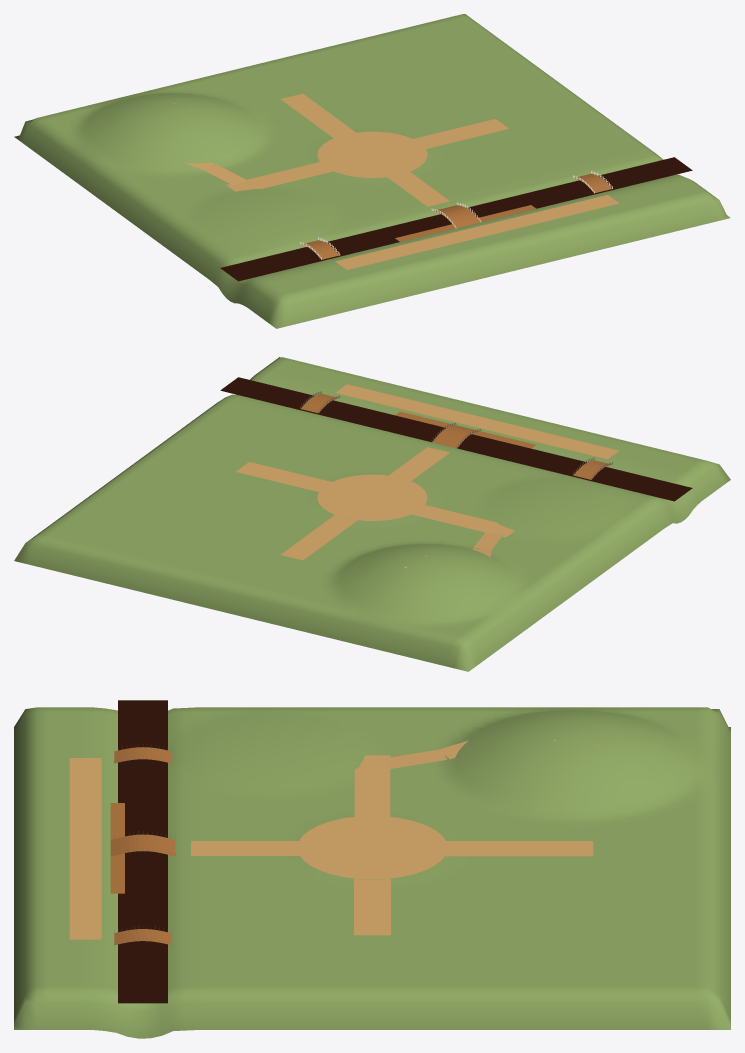
Rendered from bwed-village-terrain.glb.
The picture shows the model from 3 angles, top to bottom: view 1: azimuth 30°, elevation 25°; view 2: azimuth 150°, elevation 25°; view 3: azimuth 270°, elevation 25°; orthographic projection. The views are drawn at different scales.
Parts seen in each view (by area): view 1: Bwed_Terrain, Bwed_Roads, Bwed_Choco_Canal, Bwed_Pier, Bwed_Bridge_50.0; view 2: Bwed_Terrain, Bwed_Roads, Bwed_Choco_Canal, Bwed_Pier, Bwed_Bridge_50.0; view 3: Bwed_Terrain, Bwed_Roads, Bwed_Choco_Canal, Bwed_Bridge_50.0, Bwed_Pier, Bwed_Bridge_20.0, Bwed_Bridge_80.0.
Part boxes in pixels (left/top/right/bottom): Bwed_Terrain: left=14, top=14, right=730, bottom=328; Bwed_Roads: left=172, top=93, right=619, bottom=269; Bwed_Choco_Canal: left=220, top=157, right=692, bottom=281; Bwed_Pier: left=395, top=205, right=535, bottom=241; Bwed_Bridge_50.0: left=433, top=205, right=480, bottom=228; Bwed_Terrain: left=14, top=357, right=730, bottom=671; Bwed_Roads: left=236, top=384, right=619, bottom=568; Bwed_Choco_Canal: left=220, top=377, right=692, bottom=501; Bwed_Pier: left=395, top=411, right=535, bottom=448; Bwed_Bridge_50.0: left=432, top=425, right=480, bottom=448; Bwed_Terrain: left=14, top=707, right=730, bottom=1038; Bwed_Roads: left=69, top=739, right=600, bottom=939; Bwed_Choco_Canal: left=118, top=700, right=167, bottom=1003; Bwed_Bridge_50.0: left=110, top=834, right=175, bottom=856; Bwed_Pier: left=110, top=803, right=124, bottom=893; Bwed_Bridge_20.0: left=114, top=747, right=171, bottom=763; Bwed_Bridge_80.0: left=114, top=929, right=171, bottom=945.
Size of the model in its own units: 100 by 10.36 by 100.
